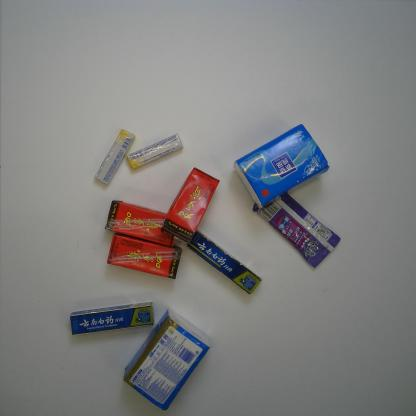Candy: (251, 193, 341, 270), (94, 128, 135, 185), (126, 132, 184, 171)
Drink: (160, 166, 221, 246), (106, 232, 182, 280), (104, 199, 176, 248)
Personal Hygiene: (184, 228, 262, 296), (69, 301, 154, 336)
Tissue: (122, 308, 212, 412), (233, 123, 330, 210)
